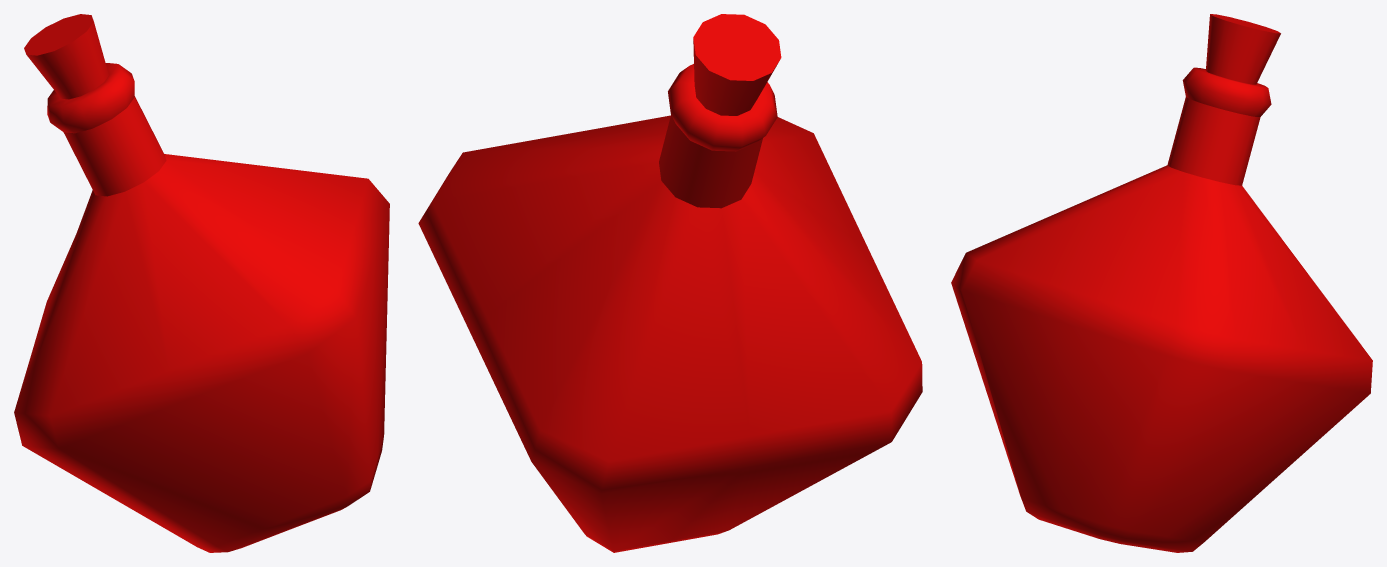
The model's file is Potions_05.fbx.
3 renders of one model, left to right at view 1: azimuth 30°, elevation 25°; view 2: azimuth 150°, elevation 25°; view 3: azimuth 270°, elevation 25°, orthographic. The views are drawn at different scales.
Visible parts, largest first — view 1: Potion_05; view 2: Potion_05; view 3: Potion_05.
Boxes of the visible parts, x1,y1,x2,y2 form: Potion_05: (14, 14, 389, 552); Potion_05: (418, 14, 922, 552); Potion_05: (951, 14, 1372, 552).
Bounding box in the file's own units: 0.4343 × 0.4423 × 0.553.
